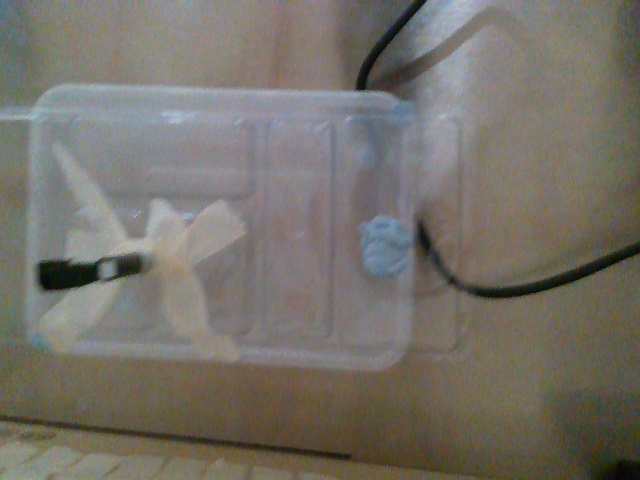test_strip: (33, 257, 115, 292)
